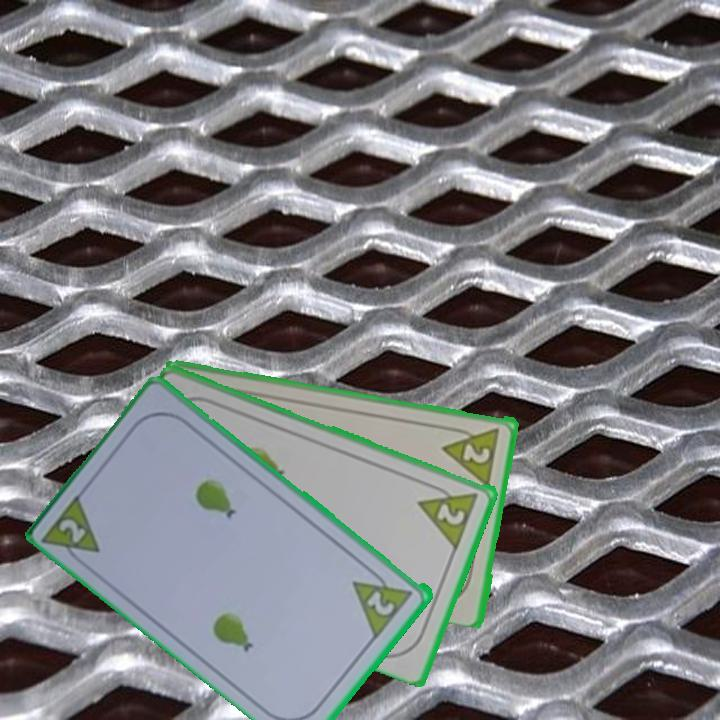2p: (40, 488, 105, 572), (349, 562, 417, 640), (415, 478, 482, 551), (440, 422, 503, 487)
